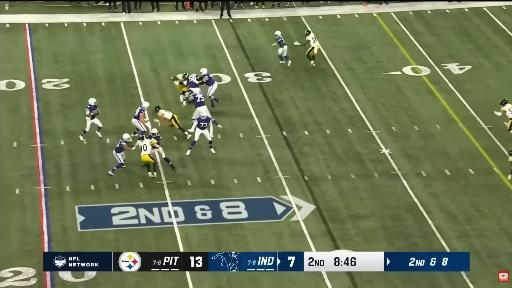Helmet: (500, 98, 509, 106), (200, 67, 207, 75), (123, 134, 131, 141), (151, 128, 158, 136), (200, 111, 207, 119), (89, 98, 96, 105), (188, 74, 197, 79), (140, 135, 147, 141), (274, 30, 281, 36), (142, 102, 149, 108), (194, 89, 201, 95), (155, 106, 161, 112), (305, 30, 311, 36), (183, 73, 188, 79), (509, 150, 511, 156)
Jersey: (139, 139, 157, 155), (174, 74, 187, 91), (196, 117, 212, 130), (187, 74, 199, 89), (202, 73, 215, 86), (306, 34, 319, 47), (115, 139, 127, 153), (193, 94, 205, 108), (134, 106, 146, 120), (501, 104, 511, 119), (87, 105, 97, 119), (158, 110, 173, 119), (149, 134, 161, 145), (276, 35, 286, 47), (176, 74, 186, 81), (509, 157, 511, 164)
Player: (187, 112, 215, 155), (155, 106, 191, 138), (149, 129, 175, 170), (80, 98, 102, 142), (192, 94, 221, 127), (109, 134, 132, 175), (295, 30, 320, 66), (200, 68, 220, 107), (139, 135, 157, 177), (132, 102, 150, 142), (273, 31, 291, 66), (495, 99, 511, 133), (172, 73, 188, 105), (187, 74, 200, 94), (509, 150, 511, 164)
